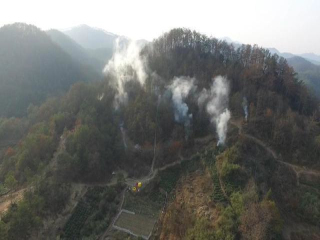smoke: (103, 38, 249, 151)
